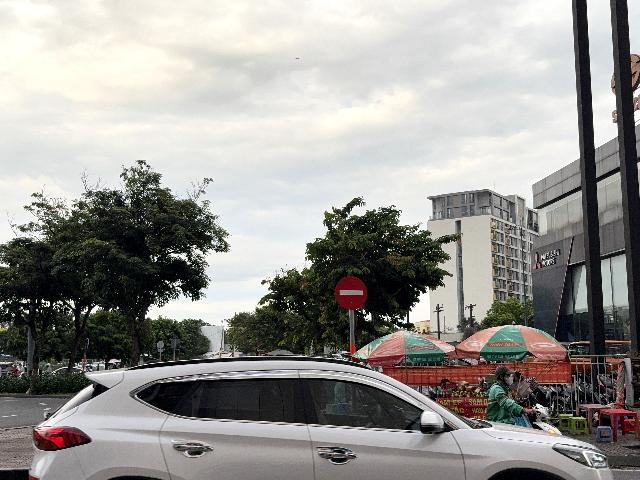cam-di-nguoc-chieu: (335, 276, 367, 310)
